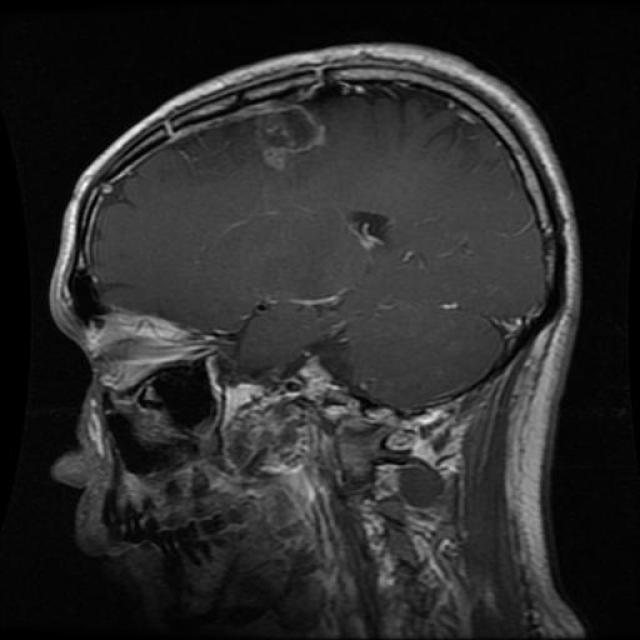brain_tumor: (349, 211, 389, 250)
